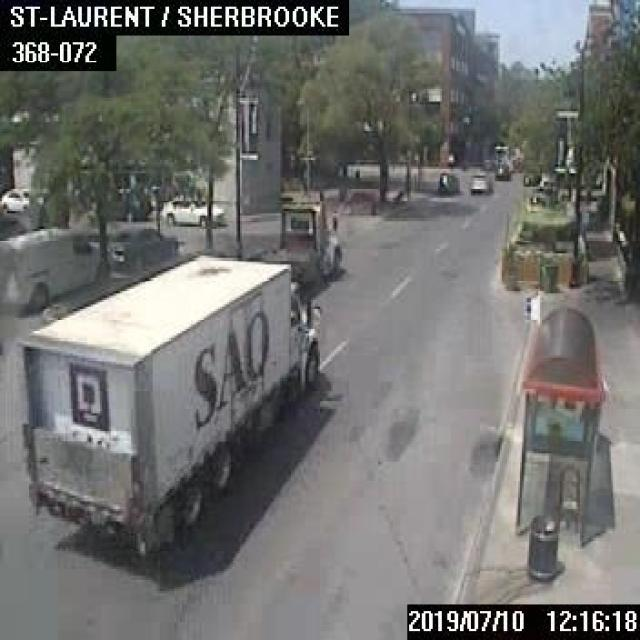vehicle: (17, 253, 320, 550), (240, 194, 340, 294), (0, 225, 109, 311), (105, 226, 176, 270), (160, 190, 221, 228), (92, 188, 150, 222), (0, 187, 31, 211), (435, 167, 460, 193), (467, 174, 491, 194), (493, 161, 508, 177)
